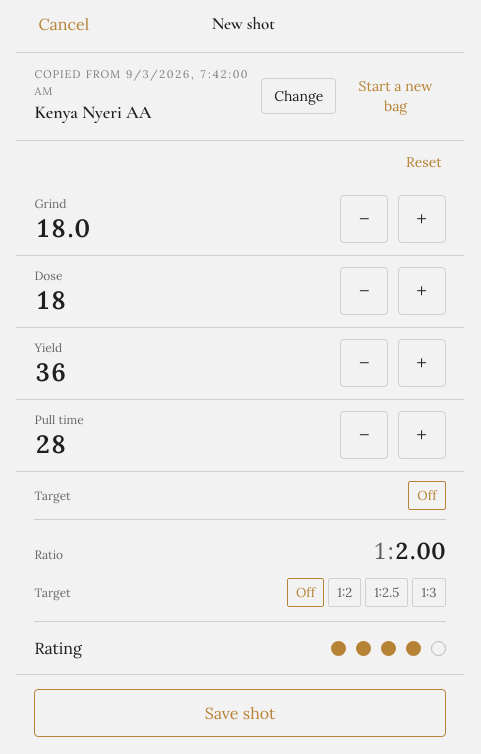
Test: NewShotPage › lets a user with existing bags start a new bag instead of duplicating one
expect the text "Kenya Nyeri AA" is shown: met, box [34, 101, 152, 123]
Click the button "Start a new bag": x=396, y=96 [346, 74, 446, 118]
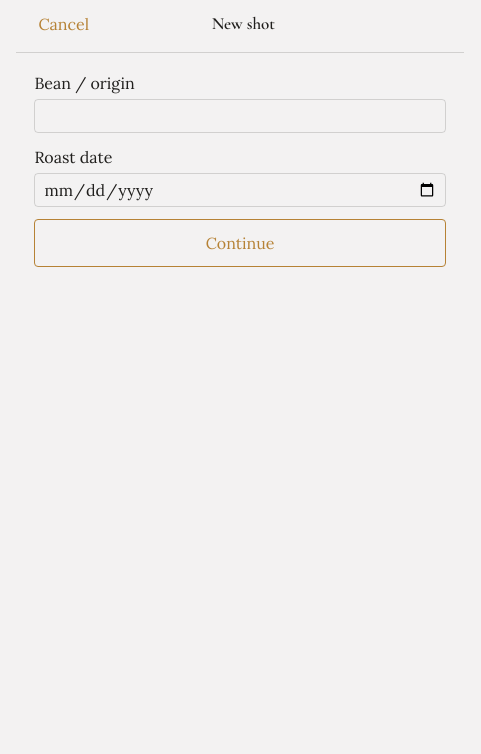
expect the field labelled "Bean / origin" is empty: met, box [34, 99, 446, 133]
expect the text labelled "Dose" is gone: met
